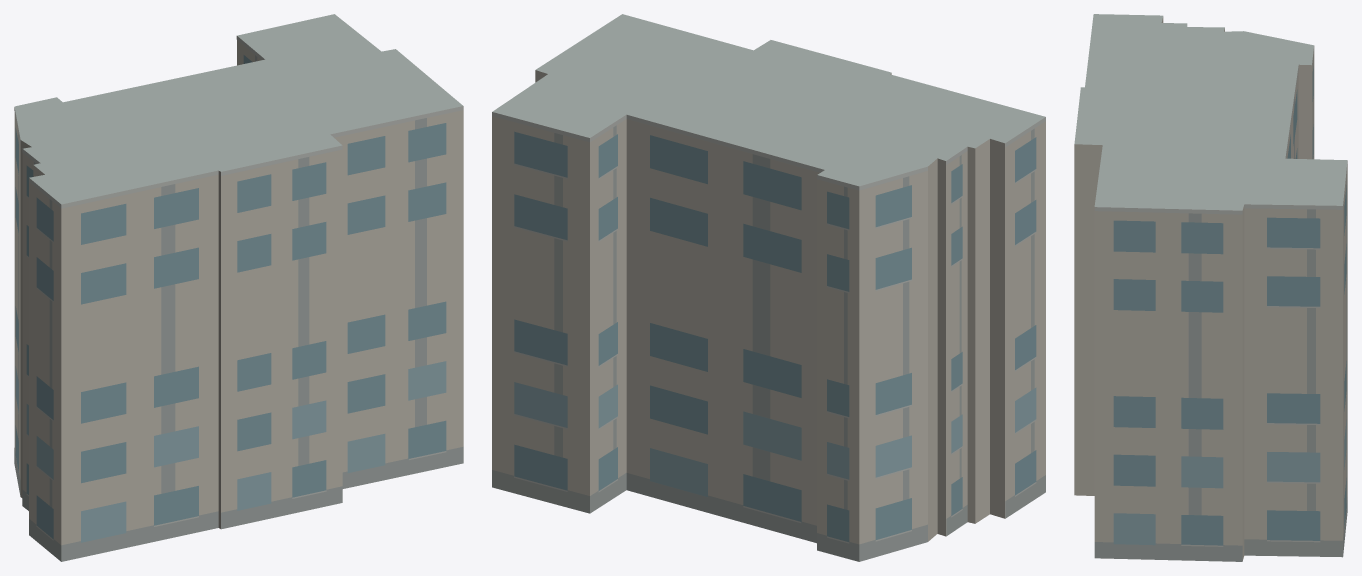
File: survey-upis-32838419.glb
3 views of the same model, side by side, from view 1: azimuth 30°, elevation 25°; view 2: azimuth 150°, elevation 25°; view 3: azimuth 270°, elevation 25° (orthographic). The views are drawn at different scales.
Parts seen in each view (by area): view 1: survey-upis-32838419.tmp; view 2: survey-upis-32838419.tmp; view 3: survey-upis-32838419.tmp.
Boxes of the visible parts, x1=… form: survey-upis-32838419.tmp: x1=14, y1=14, x2=463, y2=561; survey-upis-32838419.tmp: x1=492, y1=14, x2=1045, y2=561; survey-upis-32838419.tmp: x1=1074, y1=14, x2=1347, y2=561.
Bounding box in the file's own units: 25.71 × 21.4 × 15.09.
